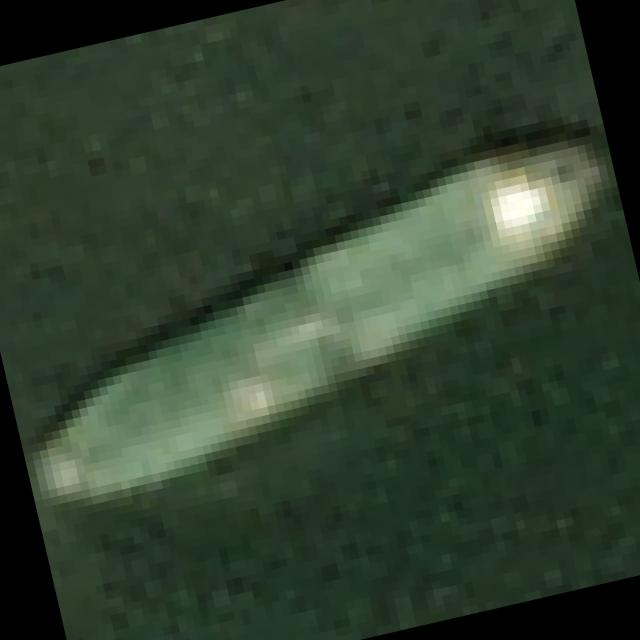ship: (0, 68, 640, 563)
